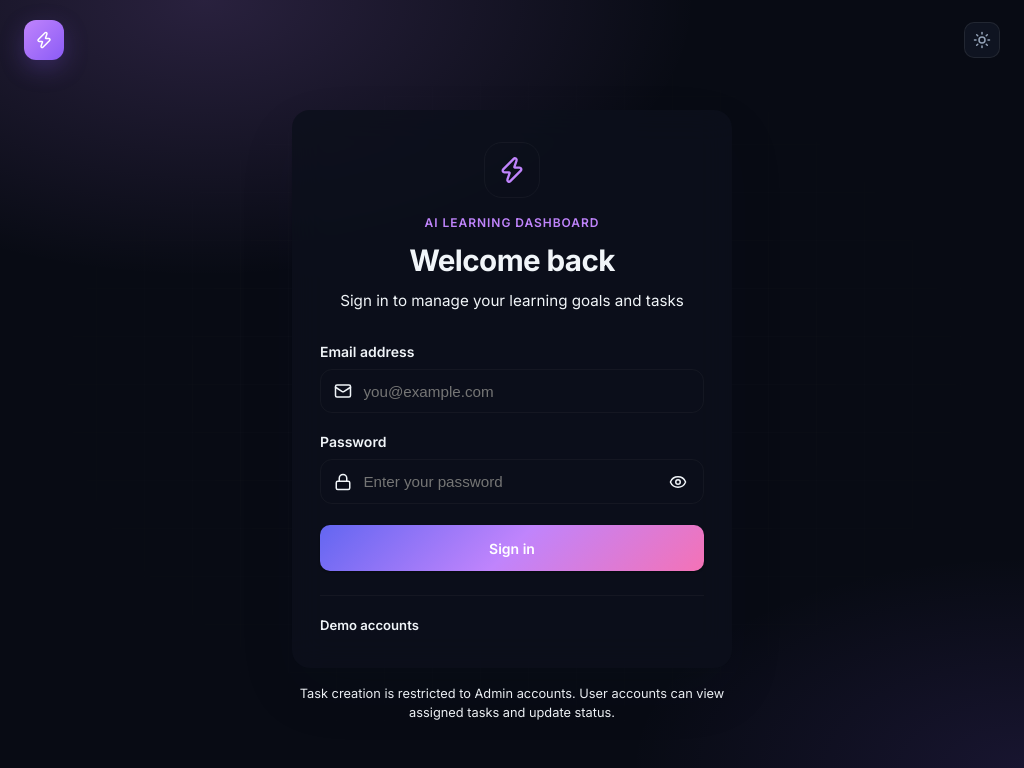
Scenario: LoginPage › shows validation errors for empty submit
Click the button "Sign in" at coordinates (512, 548), box x1=320 y1=525 x2=704 y2=571
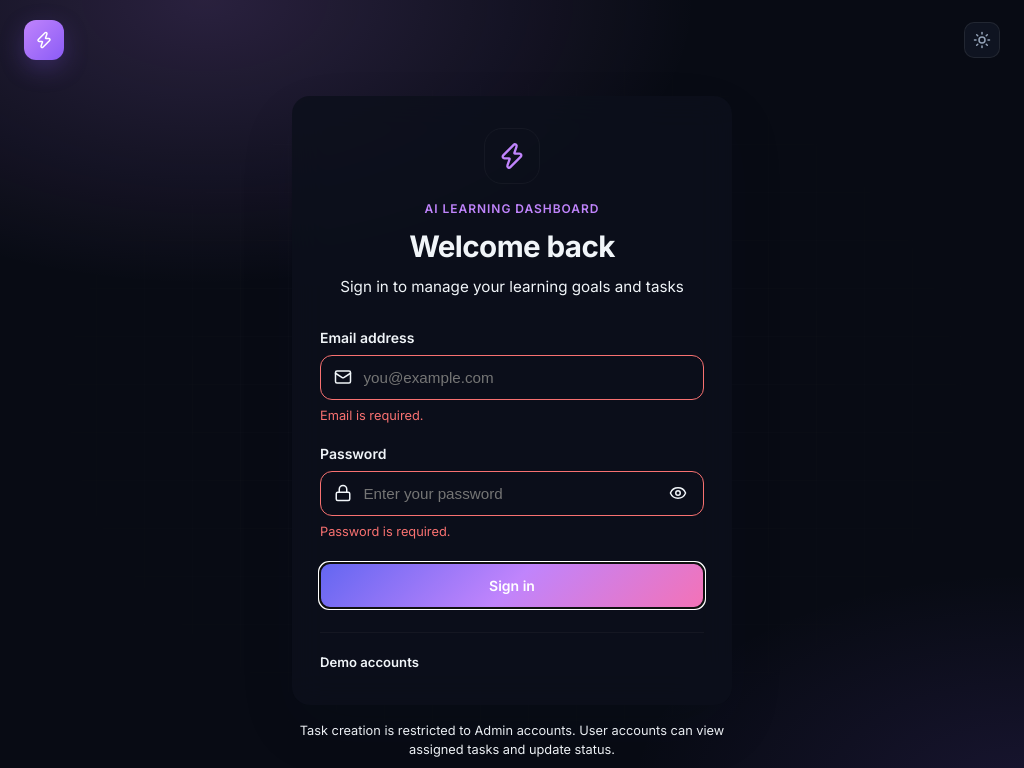
Now the text "Email is required." is shown, box x1=320 y1=408 x2=424 y2=423
Now the text "Password is required." is shown, box x1=320 y1=524 x2=450 y2=539
